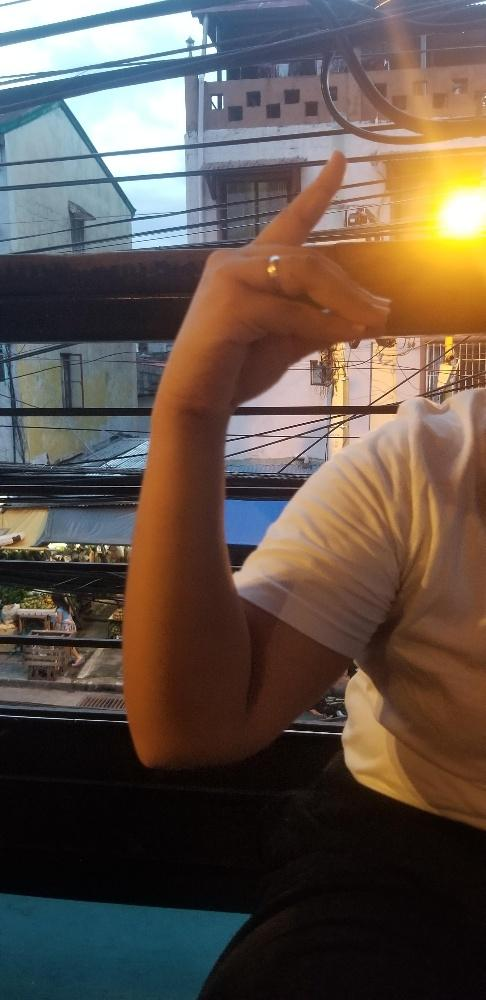d: (155, 148, 396, 403)
